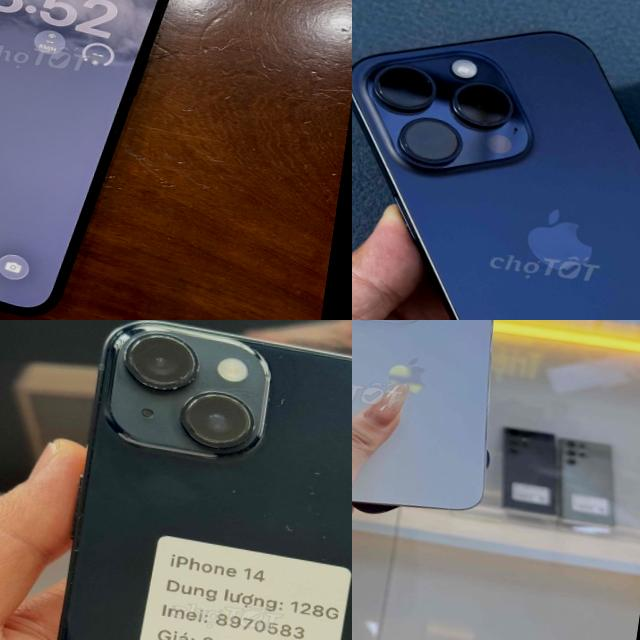gen_12_13: (0, 0, 181, 320)
gen_14: (8, 320, 352, 640), (352, 320, 527, 532)
gen_15: (352, 0, 640, 320)
scratch: (173, 386, 267, 488), (108, 320, 218, 399), (268, 524, 338, 546), (298, 462, 330, 510), (277, 390, 295, 418), (346, 478, 352, 498)
